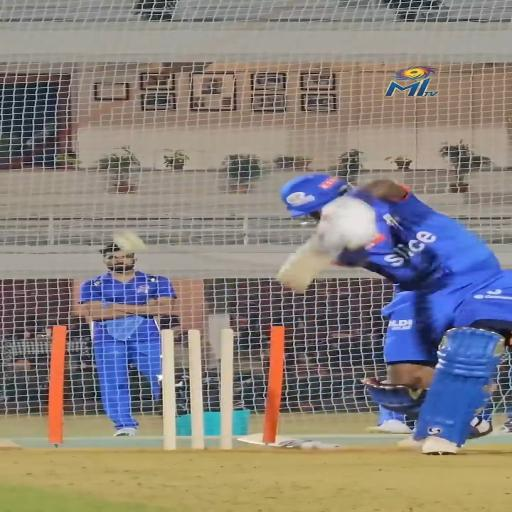Cricket bat: (277, 234, 338, 292)
